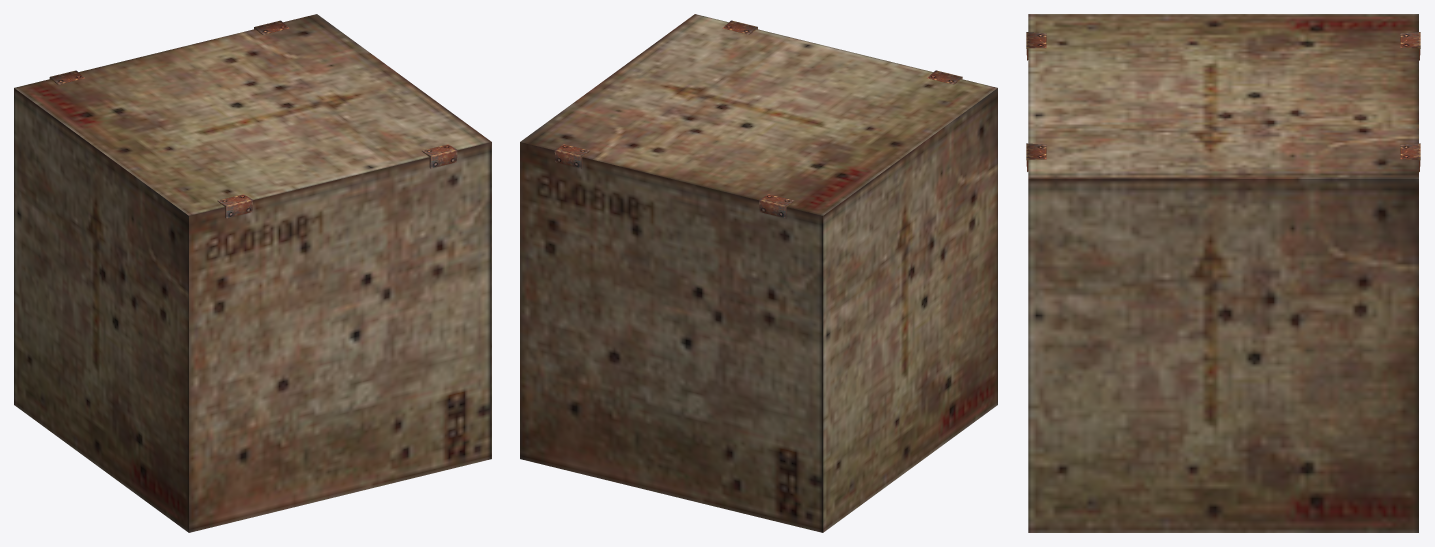
The model's file is BoxC.fbx.
3 renders of one model, left to right at view 1: azimuth 30°, elevation 25°; view 2: azimuth 150°, elevation 25°; view 3: azimuth 270°, elevation 25°, orthographic. The views are drawn at different scales.
Visible parts, largest first — view 1: BoxC; view 2: BoxC; view 3: BoxC.
Boxes of the visible parts, x1,y1,x2,y2 form: BoxC: (14, 14, 491, 532); BoxC: (520, 14, 997, 532); BoxC: (1026, 14, 1420, 532).
Size of the model in its own units: 244 by 245 by 246.
